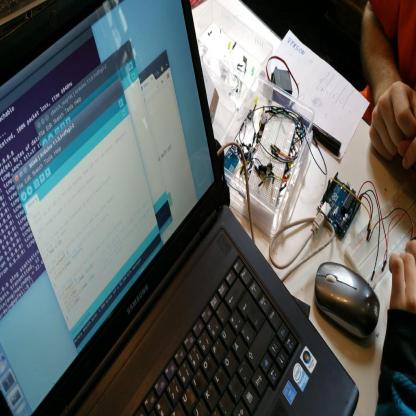board: (0, 27, 347, 415)
